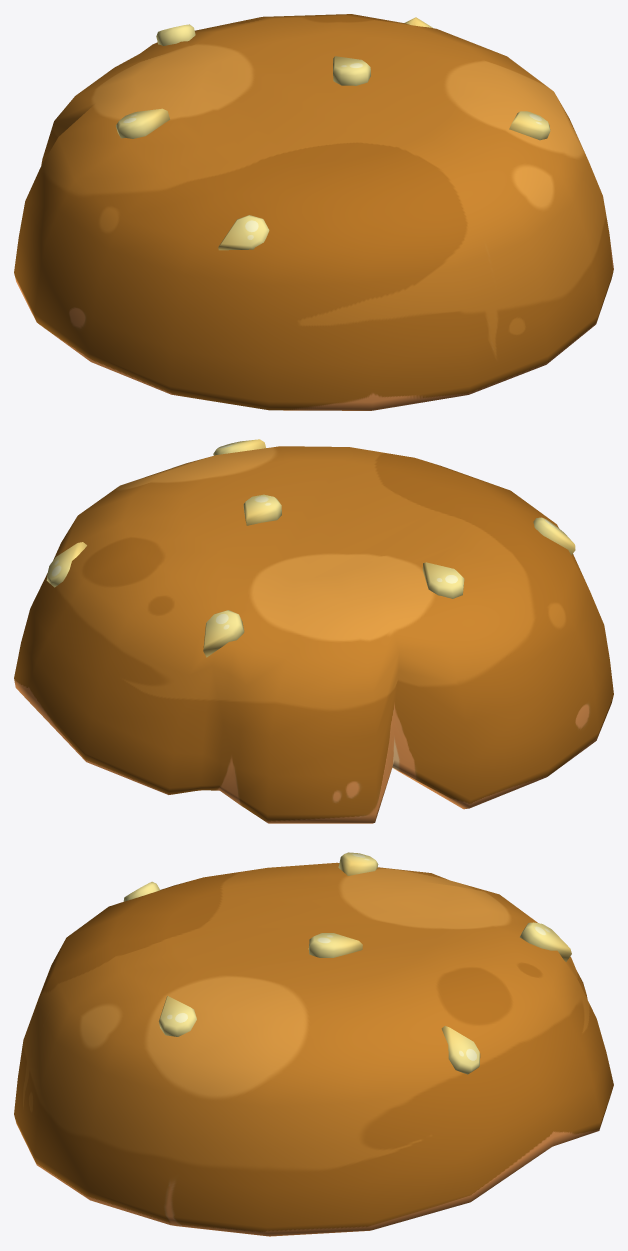
File: BunTop.fbx
3 renders of one model, top to bottom at view 1: azimuth 30°, elevation 25°; view 2: azimuth 150°, elevation 25°; view 3: azimuth 270°, elevation 25°, orthographic.
Visible parts, largest first — view 1: BunTop; view 2: BunTop; view 3: BunTop.
Boxes of the visible parts, x1,y1,x2,y2 form: BunTop: [14, 14, 613, 410]; BunTop: [14, 439, 613, 823]; BunTop: [14, 852, 613, 1236].
Size of the model in its own units: 75.9 by 29.75 by 77.25.
